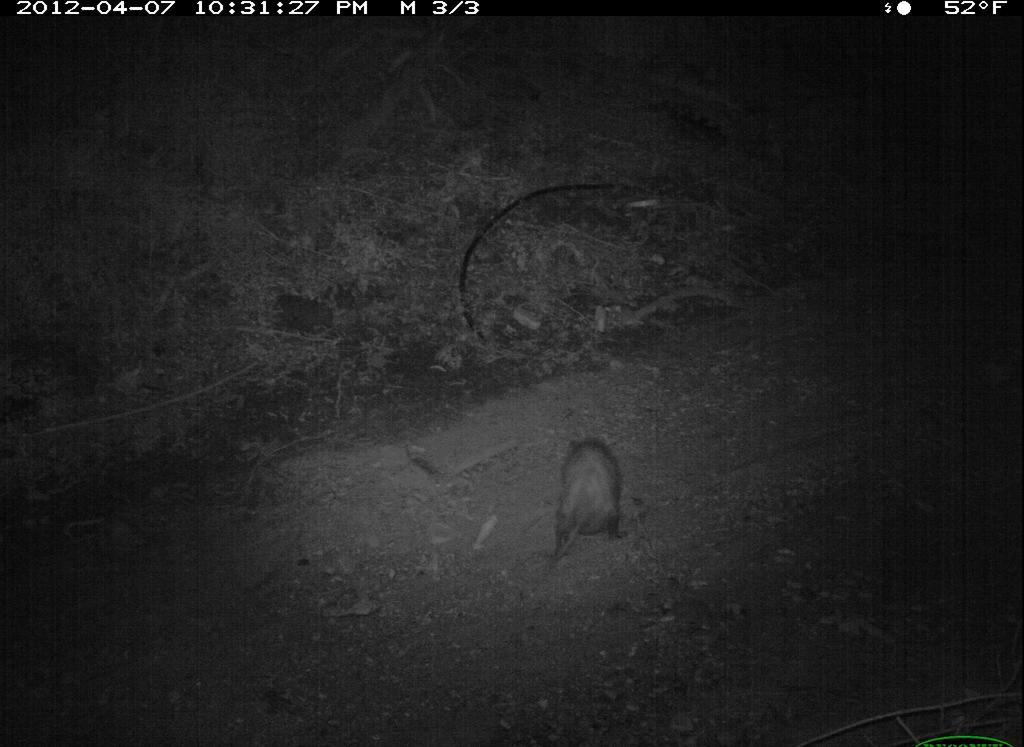opossum: (528, 422, 638, 585)
